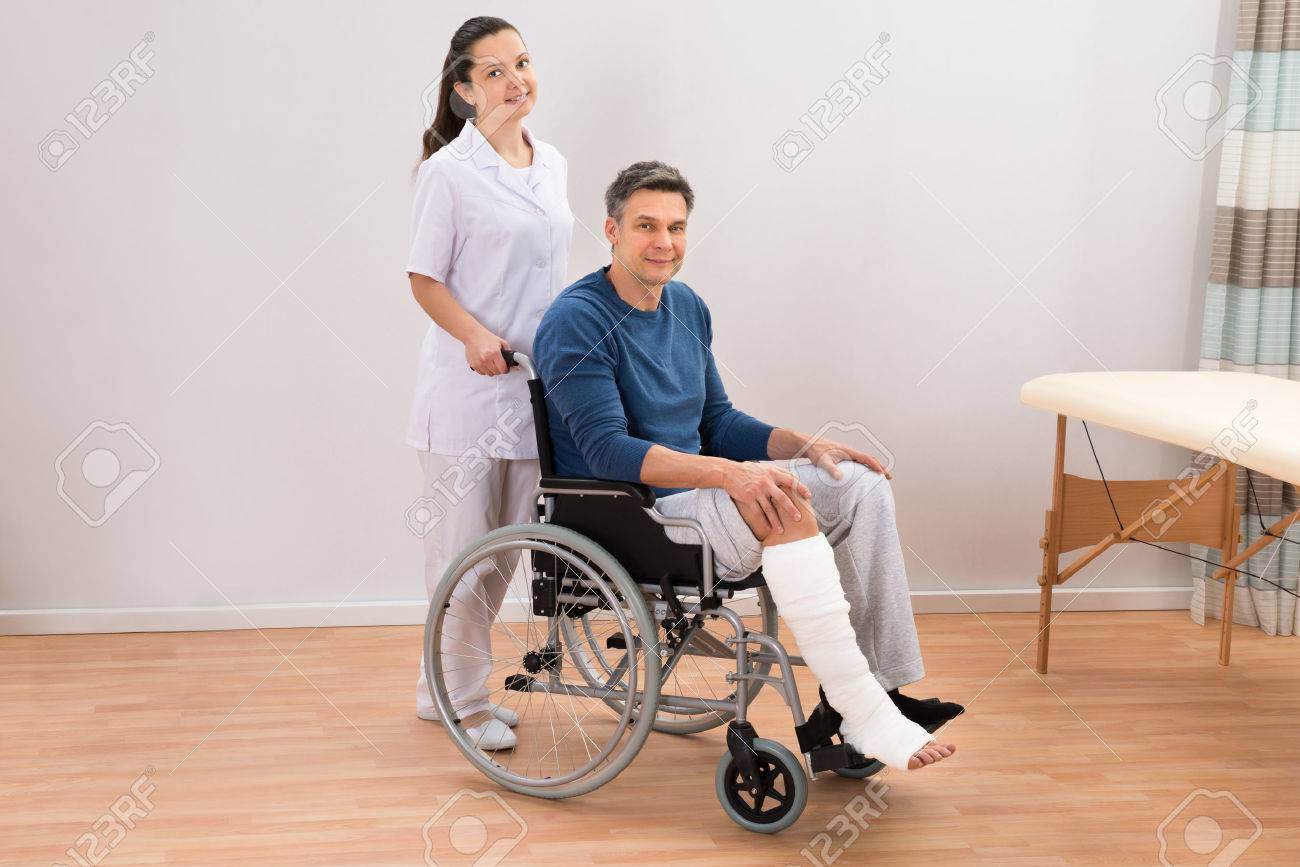wheelchair: (427, 158, 965, 833)
